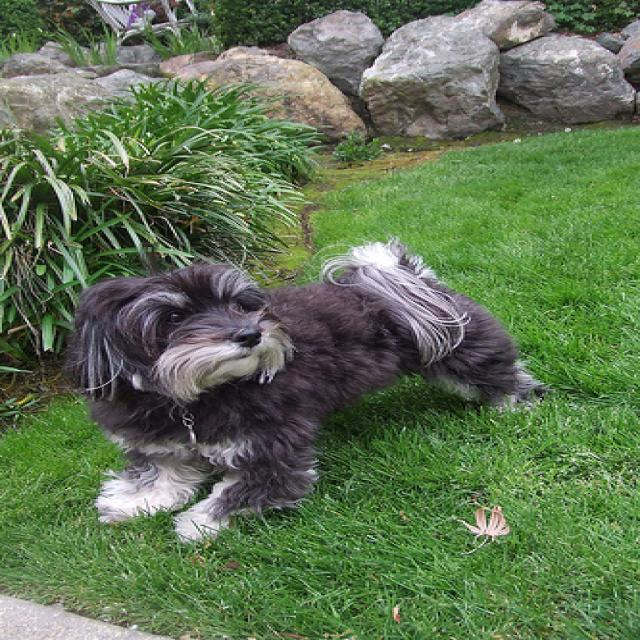dog-havanese: (52, 241, 546, 552)
